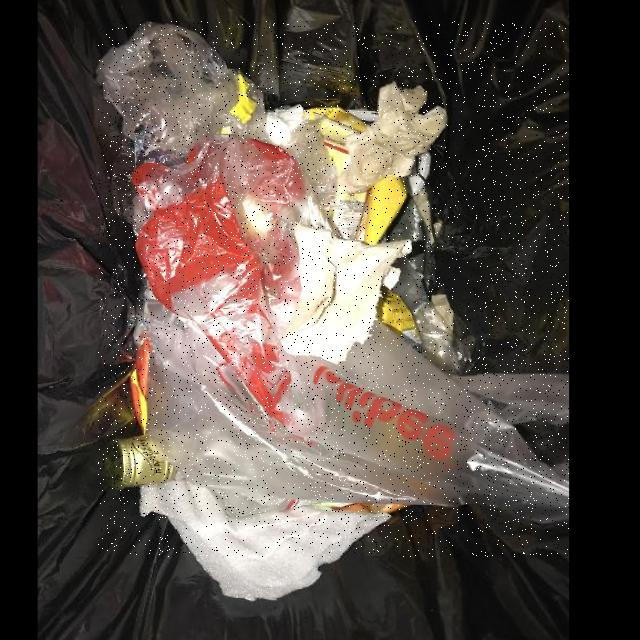paper: (281, 223, 412, 366), (334, 83, 447, 198)
plastic: (98, 22, 569, 557), (383, 256, 477, 379)
wrapper: (303, 109, 405, 245), (375, 293, 425, 354)
